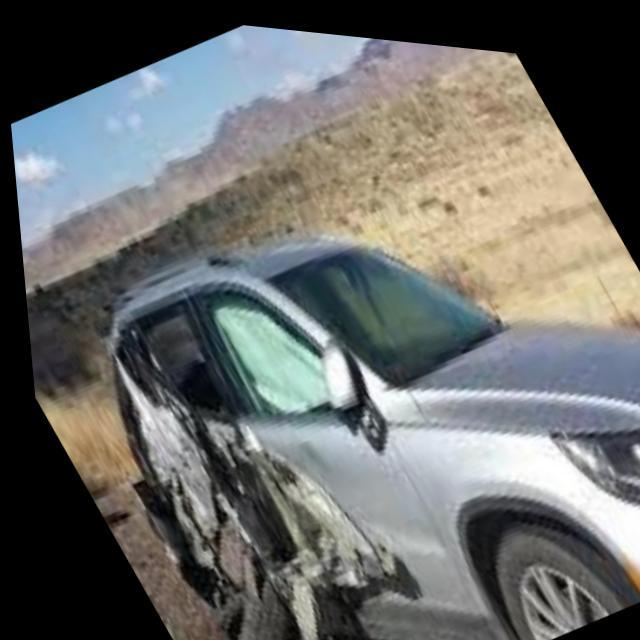crash: (101, 297, 413, 640)
